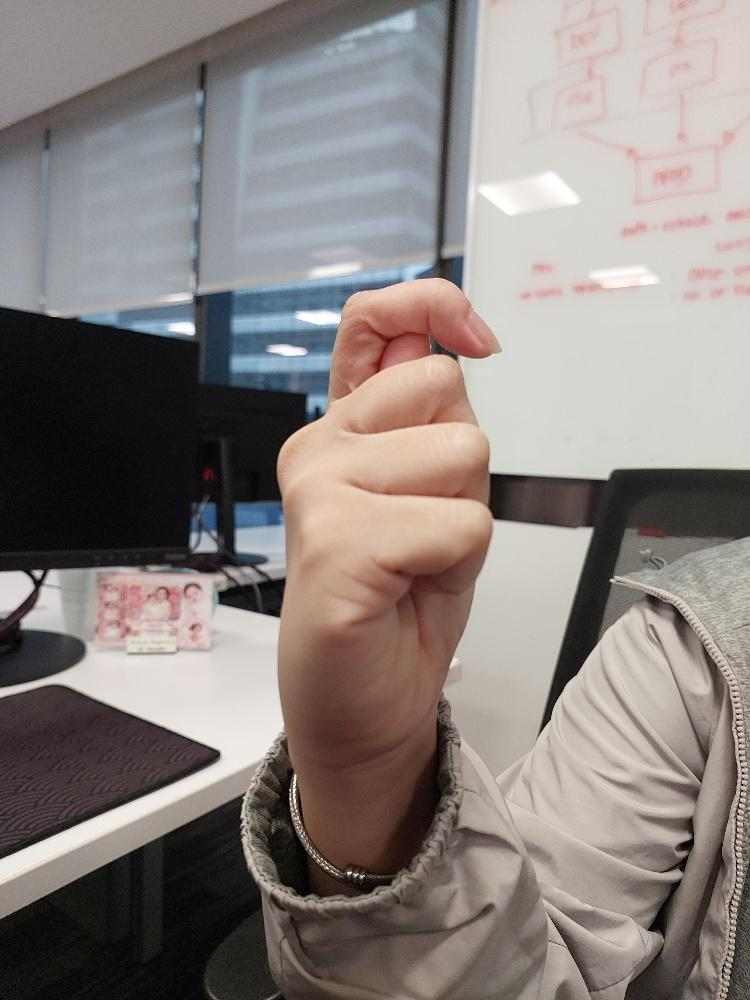t: (274, 274, 504, 755)
